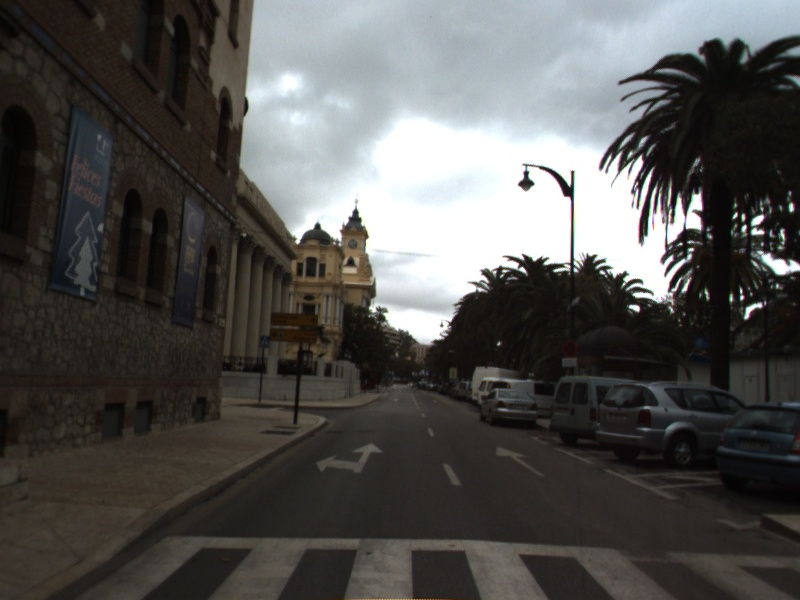STRAIGHT: (494, 443, 548, 478)
STRAIGHT_LEFT: (313, 440, 386, 475)
